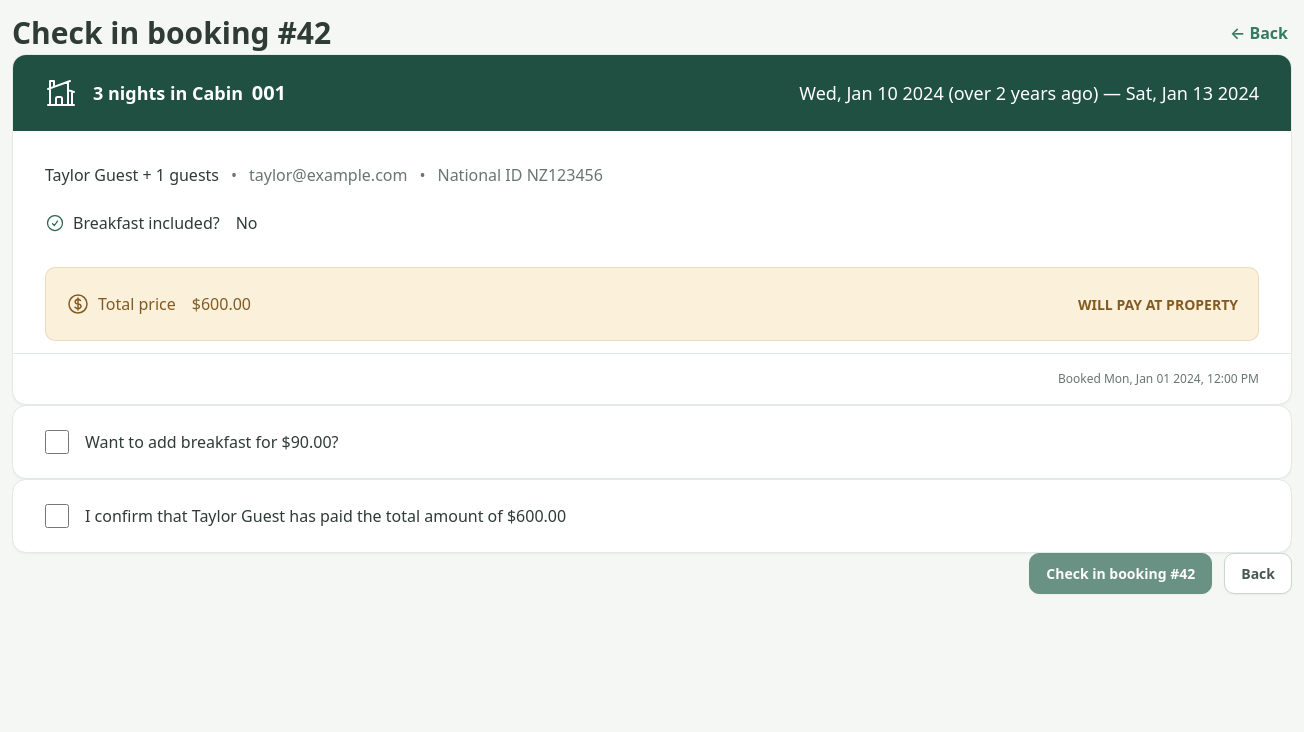
Test: CheckinBooking › requires payment confirmation again after breakfast selection changes
Click the checkbox labelled "I confirm that" at (57, 516), box [45,504,69,528]
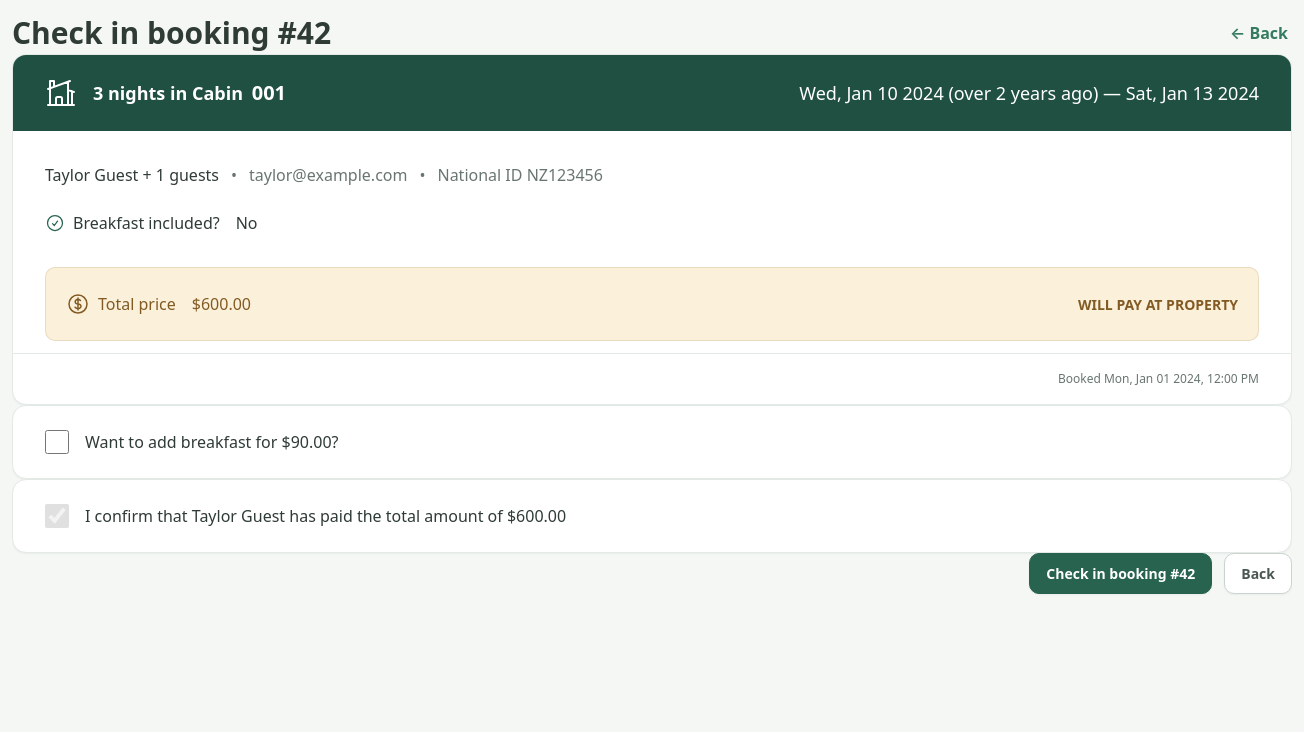
Expected: the button "Check in booking #42" is enabled, [1029,553,1212,594]
Click the checkbox labelled "Want to add breakfast for $90.00?" at (57, 442), box [45,430,69,454]
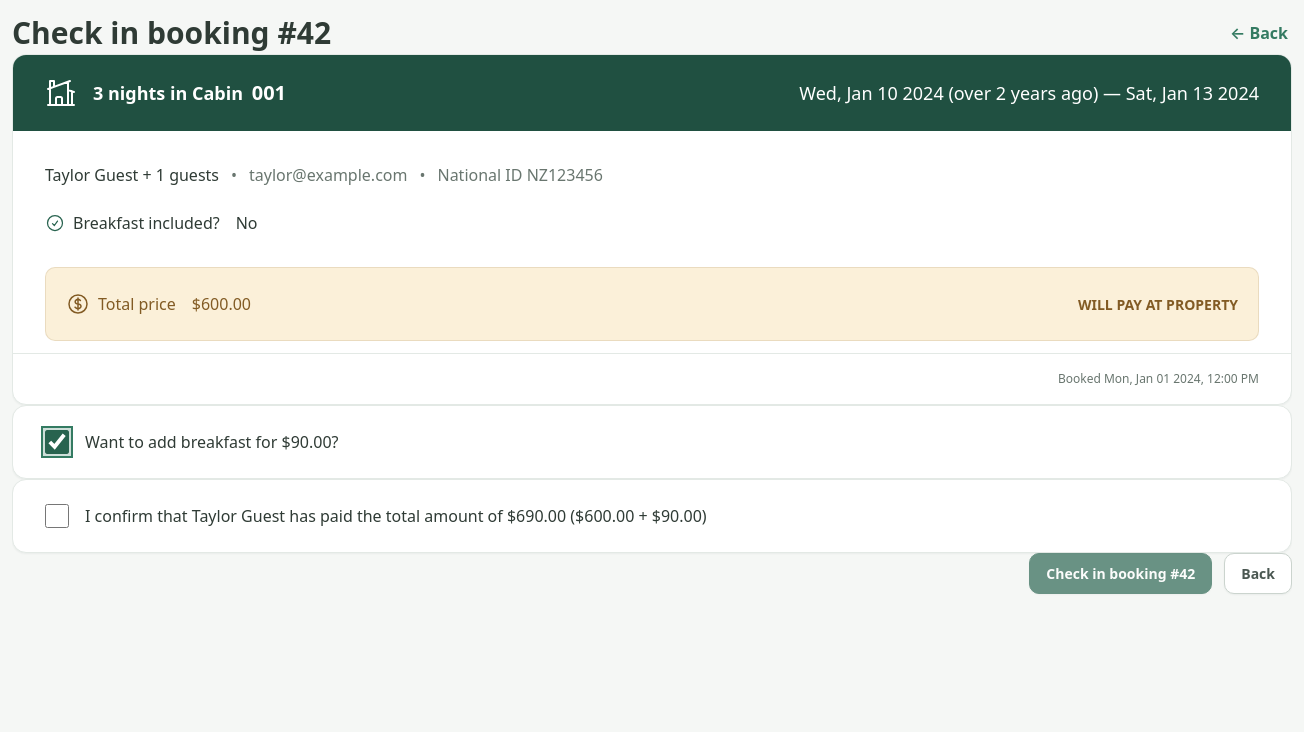
Expected: the checkbox labelled "I confirm that" is not checked, [45,504,69,528]
Expected: the button "Check in booking #42" is disabled, [1029,553,1212,594]
